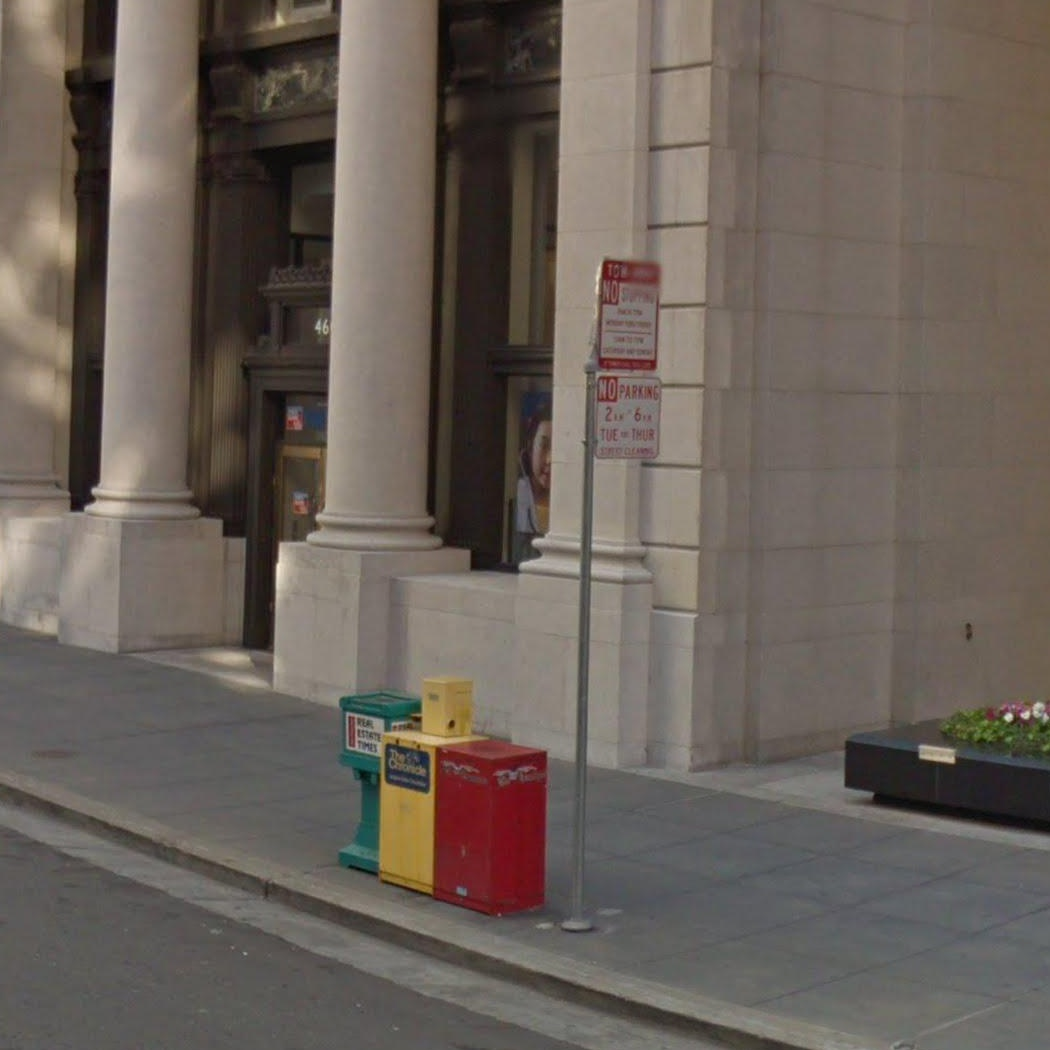No Parking: (592, 373, 662, 460)
